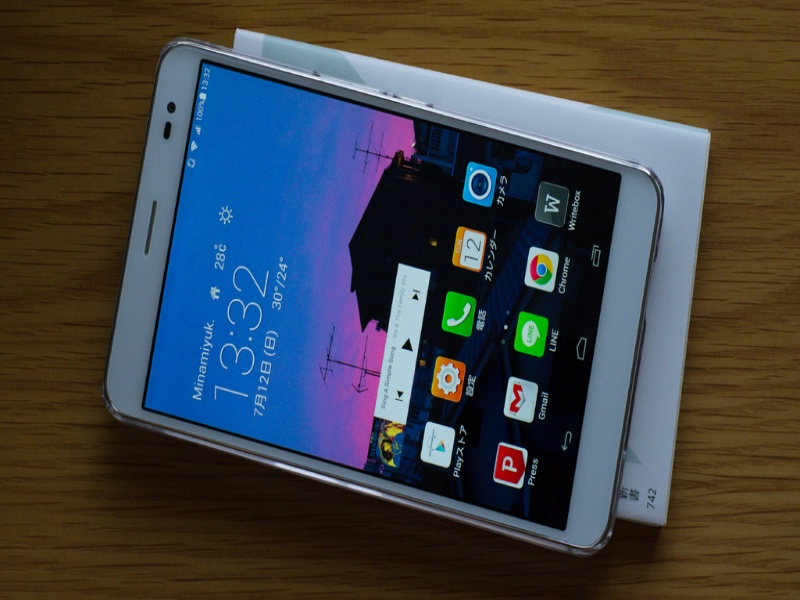cellphone: (104, 32, 668, 565)
